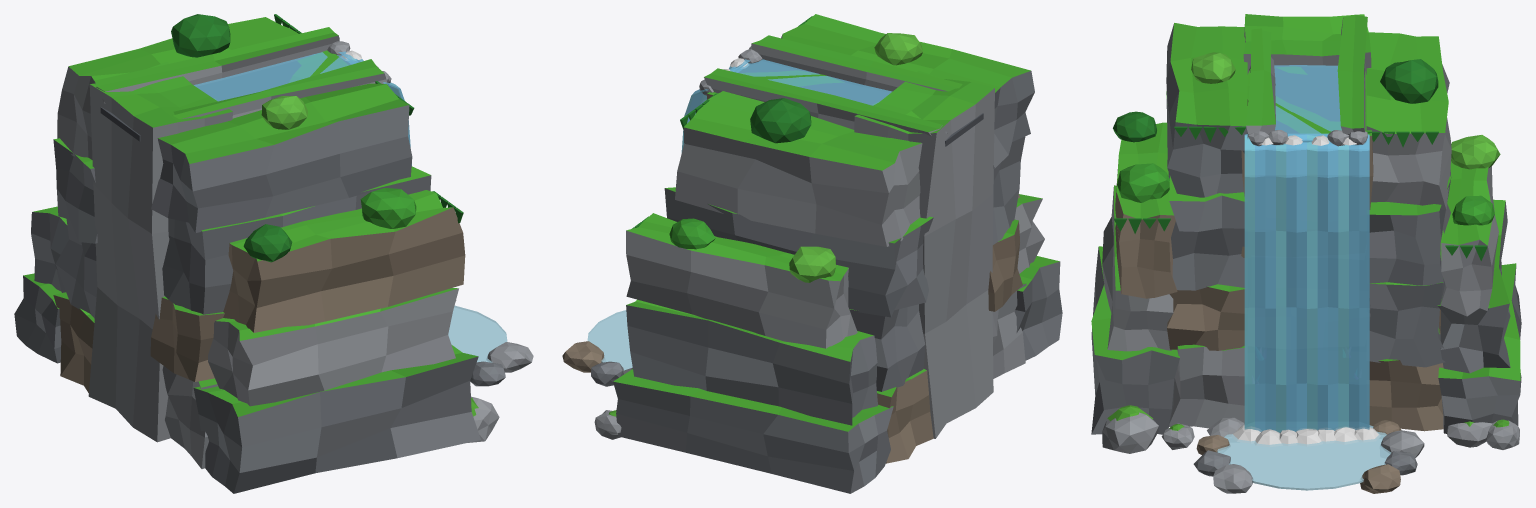
The model's file is waterfall_cliff.glb.
3 renders of one model, left to right at view 1: azimuth 30°, elevation 25°; view 2: azimuth 150°, elevation 25°; view 3: azimuth 270°, elevation 25°, orthographic. The views are drawn at different scales.
Visible parts, largest first — view 1: waterfall_cliff, water; view 2: waterfall_cliff, water; view 3: waterfall_cliff, water.
Boxes of the visible parts, x1,y1,x2,y2 form: waterfall_cliff: (14, 14, 533, 493); water: (194, 51, 507, 362); waterfall_cliff: (562, 14, 1062, 493); water: (587, 59, 892, 370); waterfall_cliff: (1091, 14, 1521, 493); water: (1217, 65, 1391, 490).
Size of the model in its own units: 20.16 by 17.73 by 20.64.
